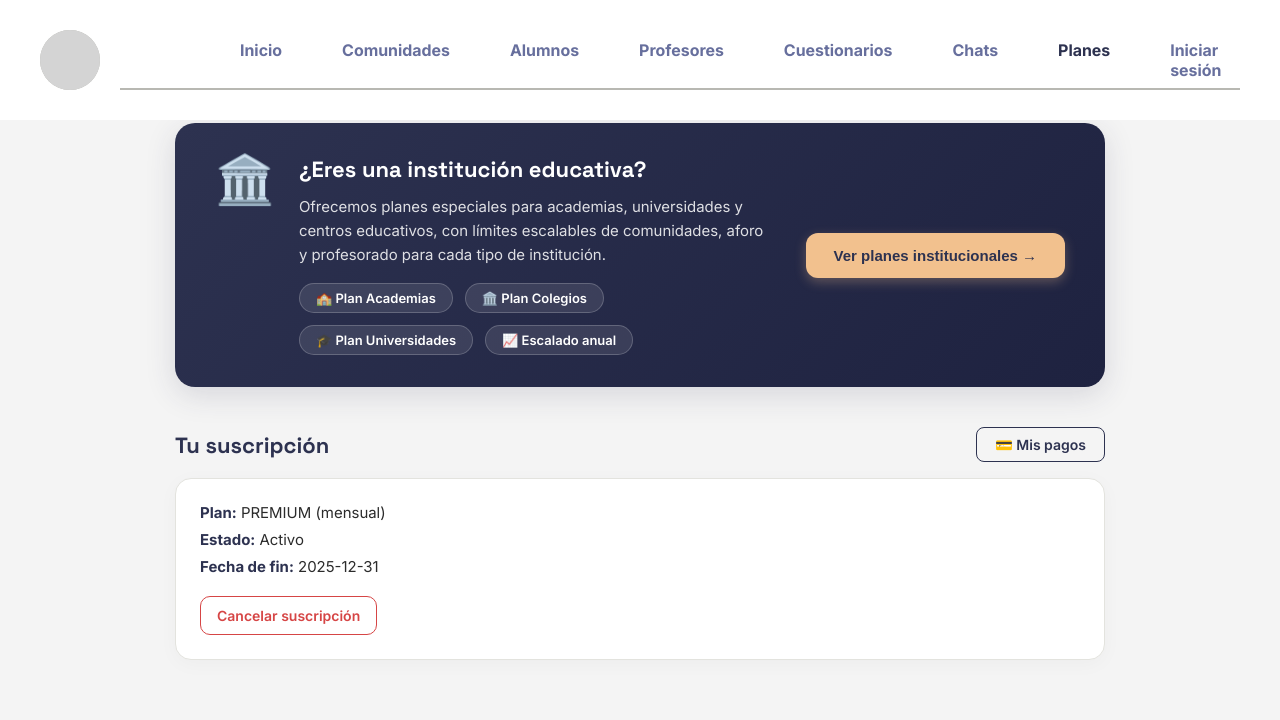
Test: PlansScreen › cancela suscripción y muestra mensaje de éxito
(page scrolled)
What coordinates should you click on to do the following:
click the button "Cancelar suscripción"
I would click on:
 (289, 616)
Its box is [200, 596, 377, 635].
(page scrolled)
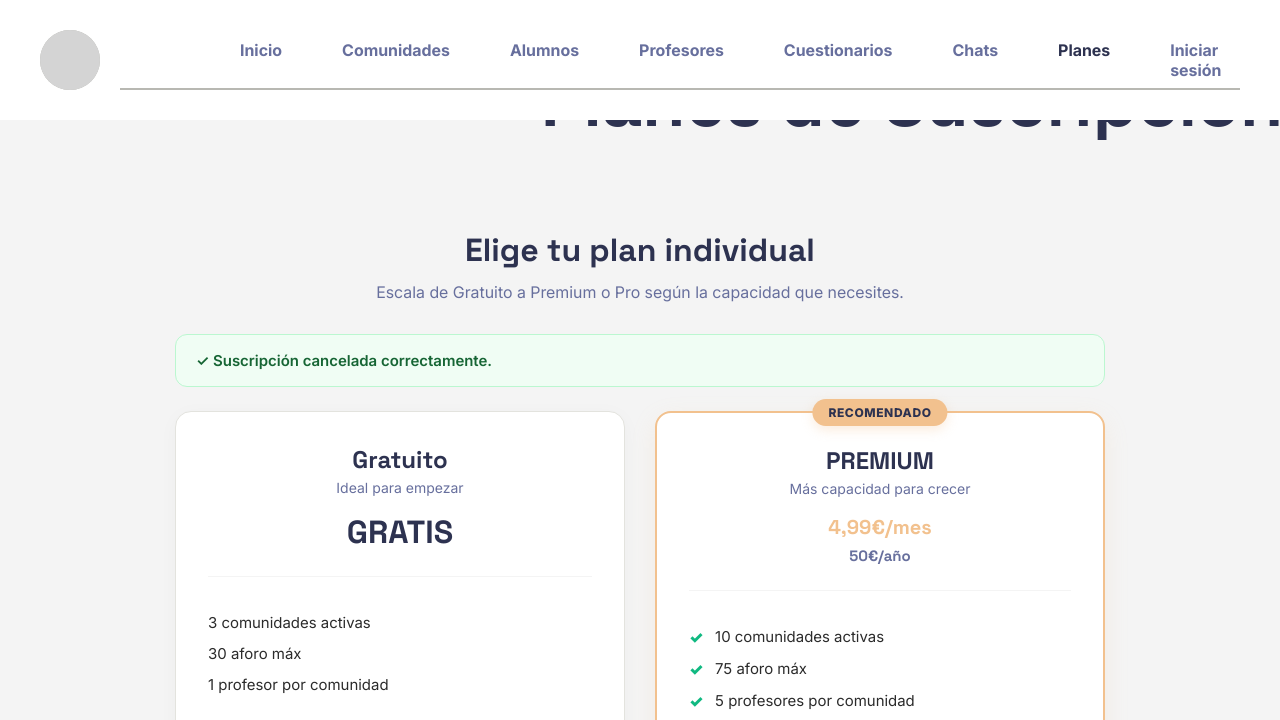
Now the text "✓ Suscripción cancelada correctamente." is shown, box [175, 334, 1105, 387]
